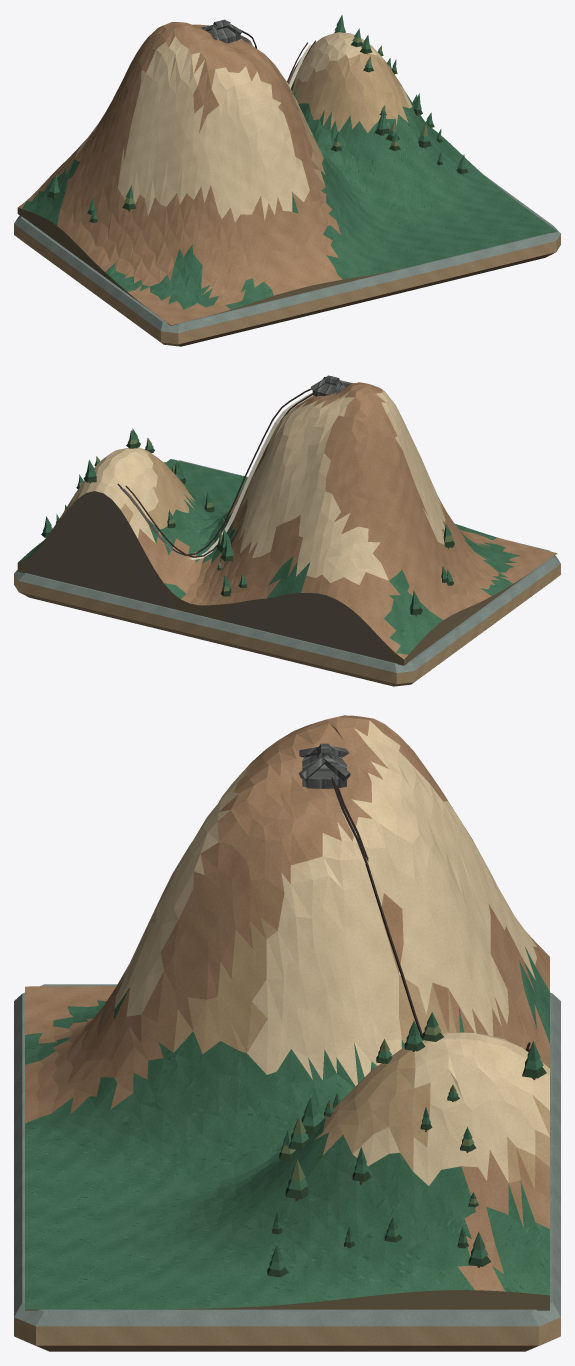
File: huashan.glb
3 views of the same model, one above another, from view 1: azimuth 30°, elevation 25°; view 2: azimuth 150°, elevation 25°; view 3: azimuth 270°, elevation 25° (orthographic). The views are drawn at different scales.
Visible parts, largest first — view 1: 华山·西峰; view 2: 华山·西峰; view 3: 华山·西峰.
Boxes of the visible parts, left/top/right/bottom form: 华山·西峰: left=14, top=15, right=560, bottom=346; 华山·西峰: left=14, top=375, right=560, bottom=686; 华山·西峰: left=14, top=715, right=560, bottom=1351.
Size of the model in its own units: 6.15 by 3.4 by 4.25.
Materials: 15 (9 with a texture image).
